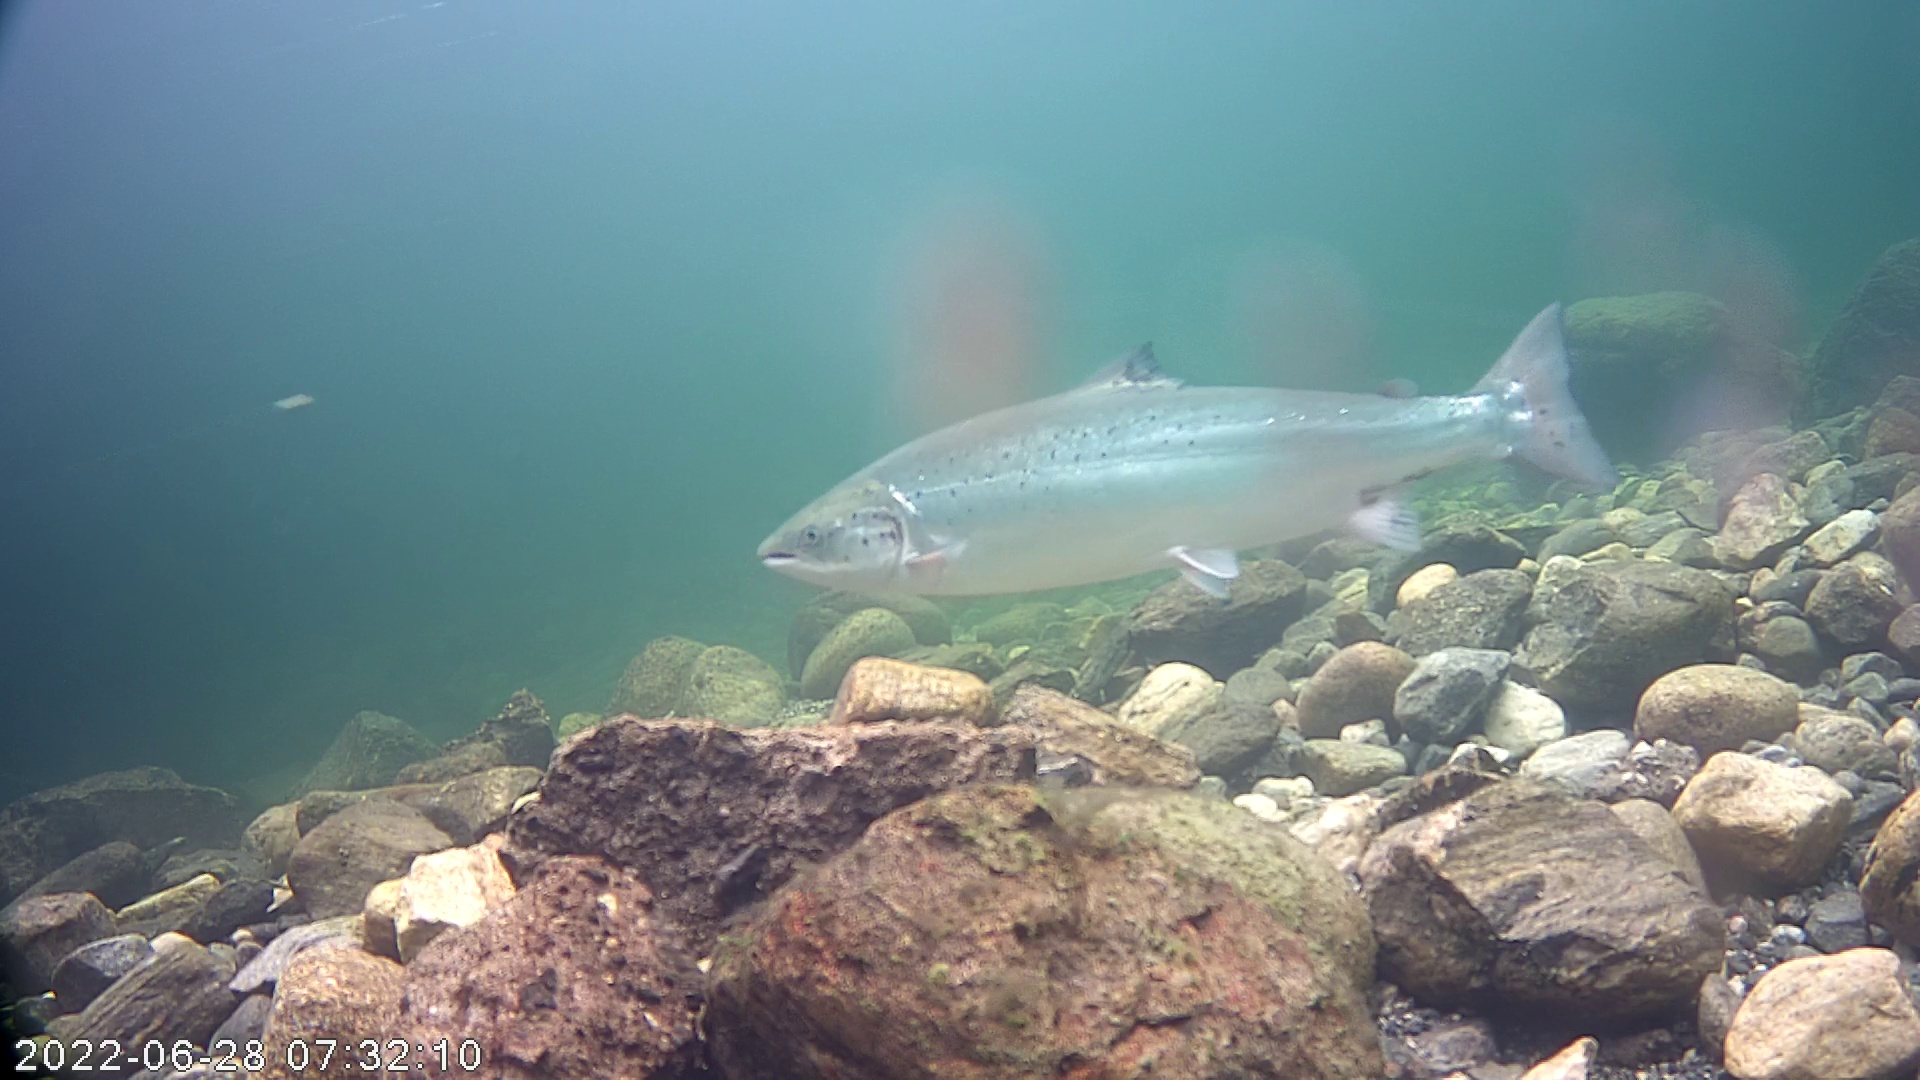salmon: (752, 218, 1636, 659)
